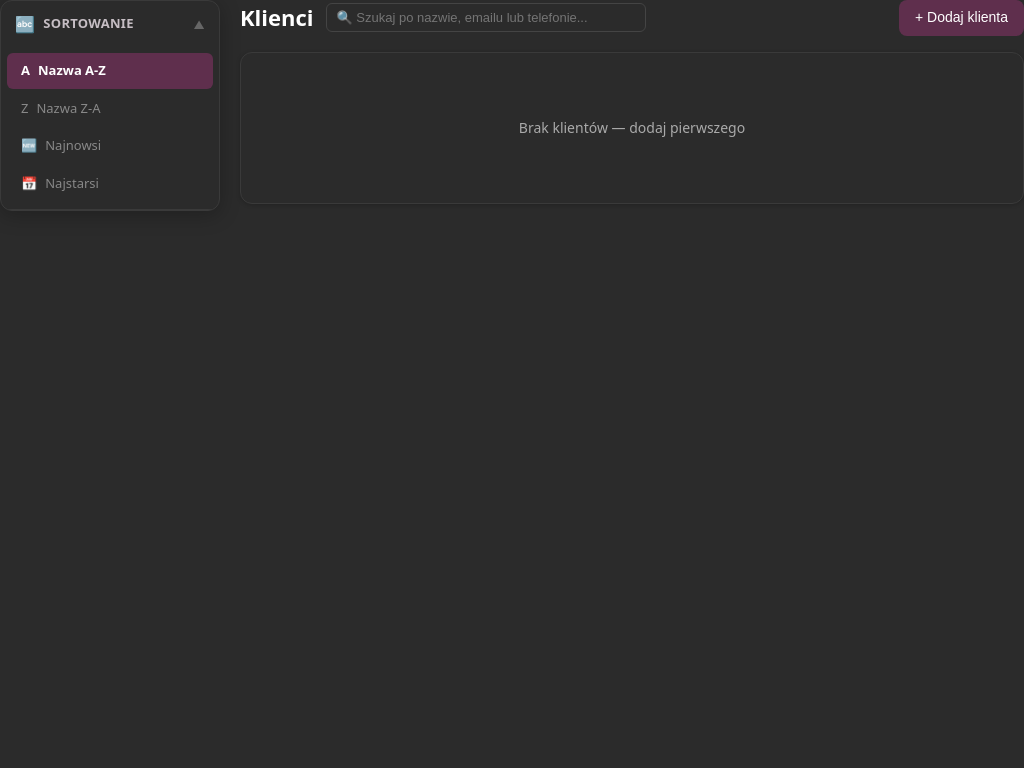
Test case: Klienci page › otwiera modal dodawania klienta
expect the heading "Klienci" is shown: met, box [240, 1, 314, 34]
Click the button "+ Dodaj klienta" at {"x": 962, "y": 18}, box [899, 0, 1023, 36]
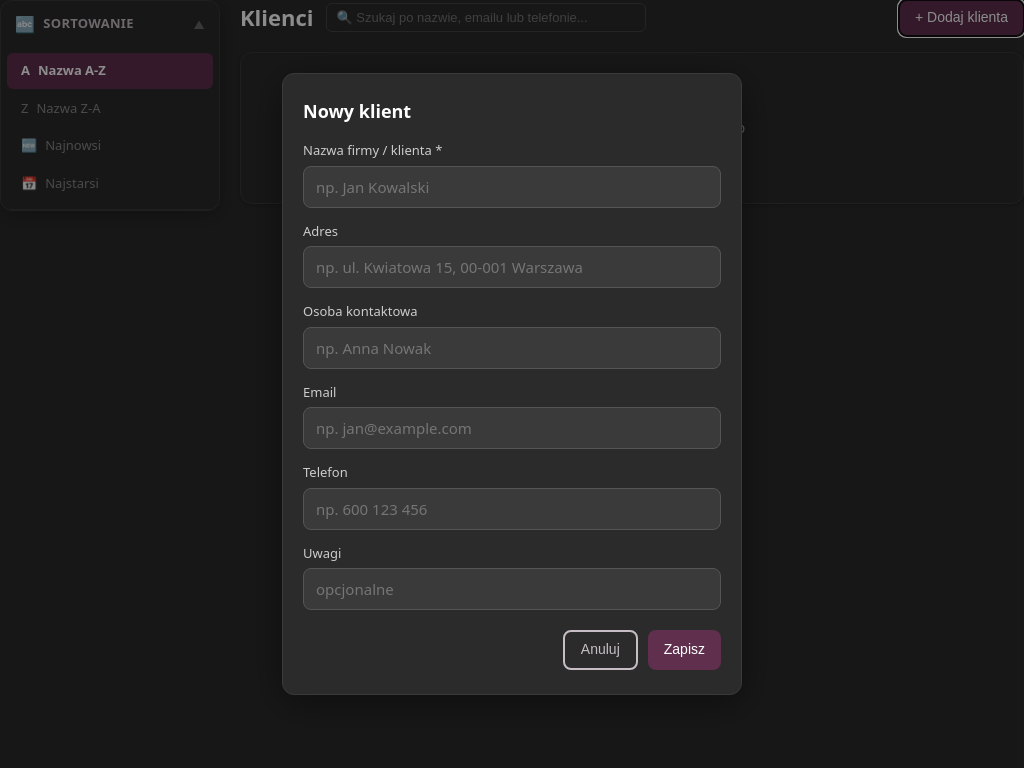
expect the heading "Nowy klient" is shown: met, box [303, 99, 411, 123]
